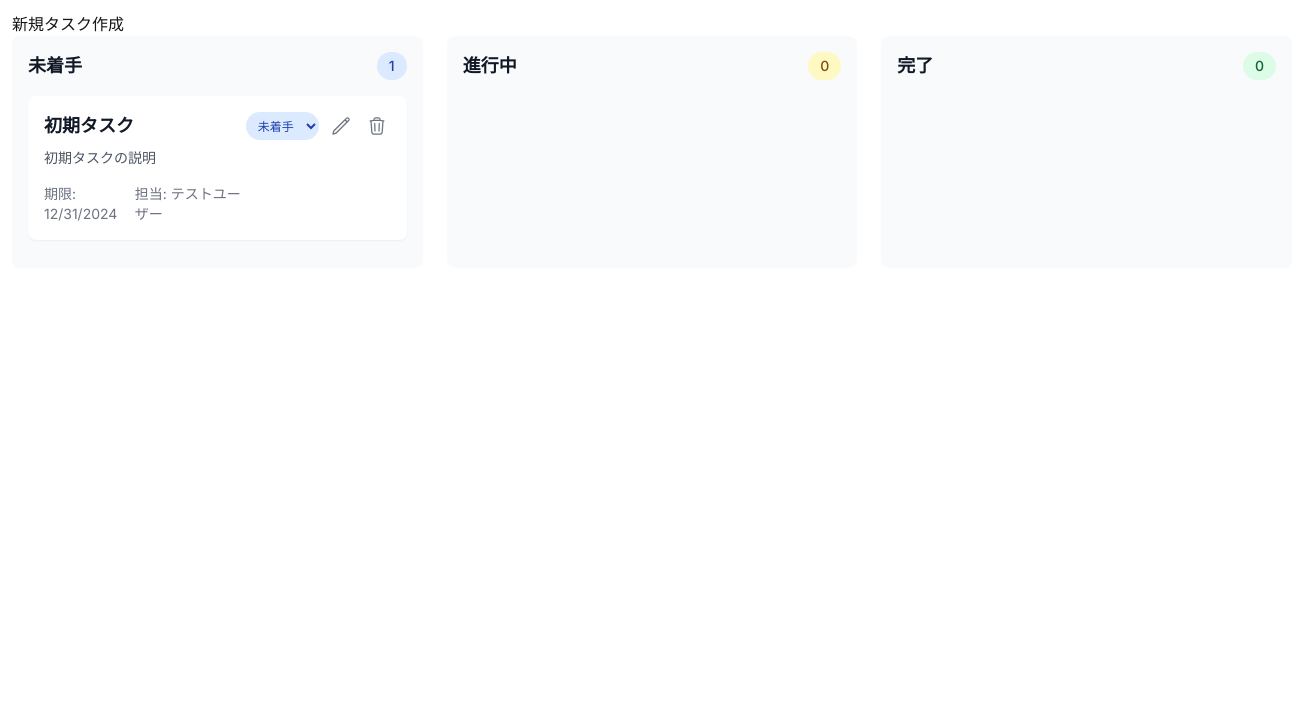
Test: TaskBoard Integration Tests › タスク編集フローが動作する
The width and height of the screenshot is (1292, 727).
// 初期タスクの編集ボタンをクリック
Click the button with test id "edit-button-1": (341, 126) [327, 112, 355, 140]
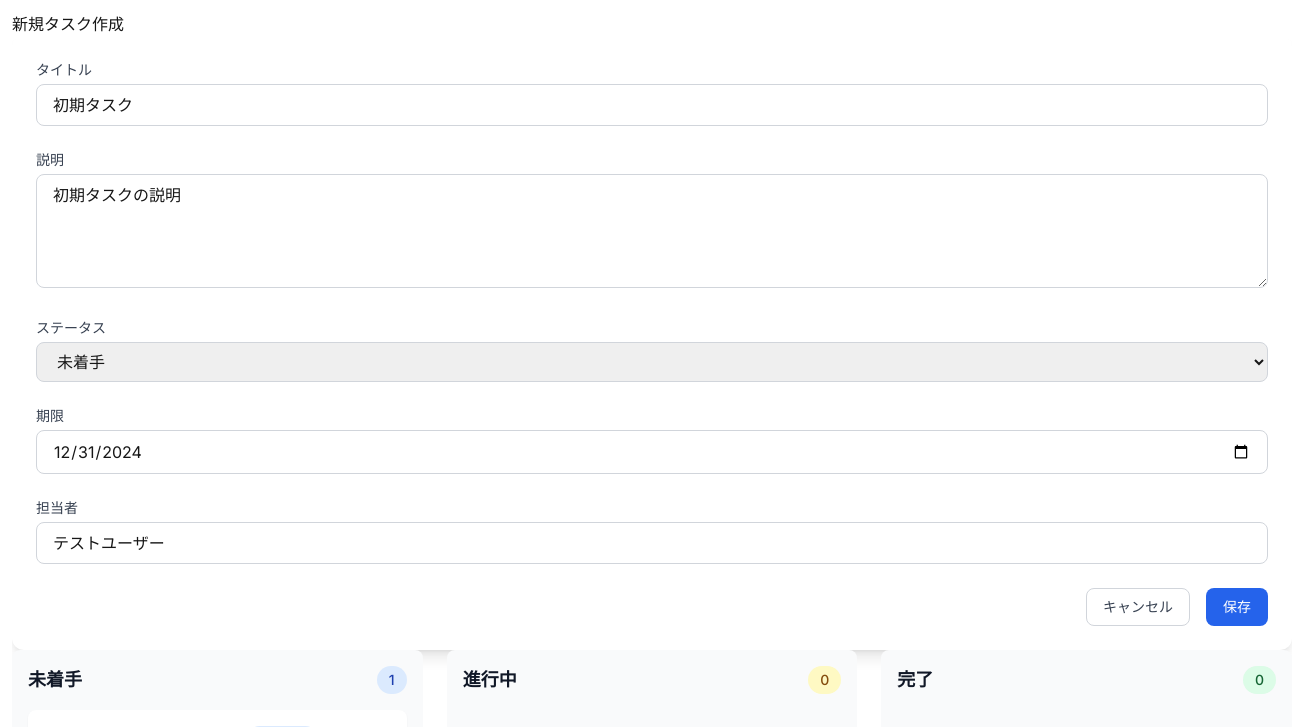
Check: the form with test id "task-form" is shown
Check: the field labelled "タイトル" holds "初期タスク"
//  タイトルを変更
Replace the text in the field labelled "タイトル" with "編集されたタスク": (652, 105) [36, 84, 1268, 126]
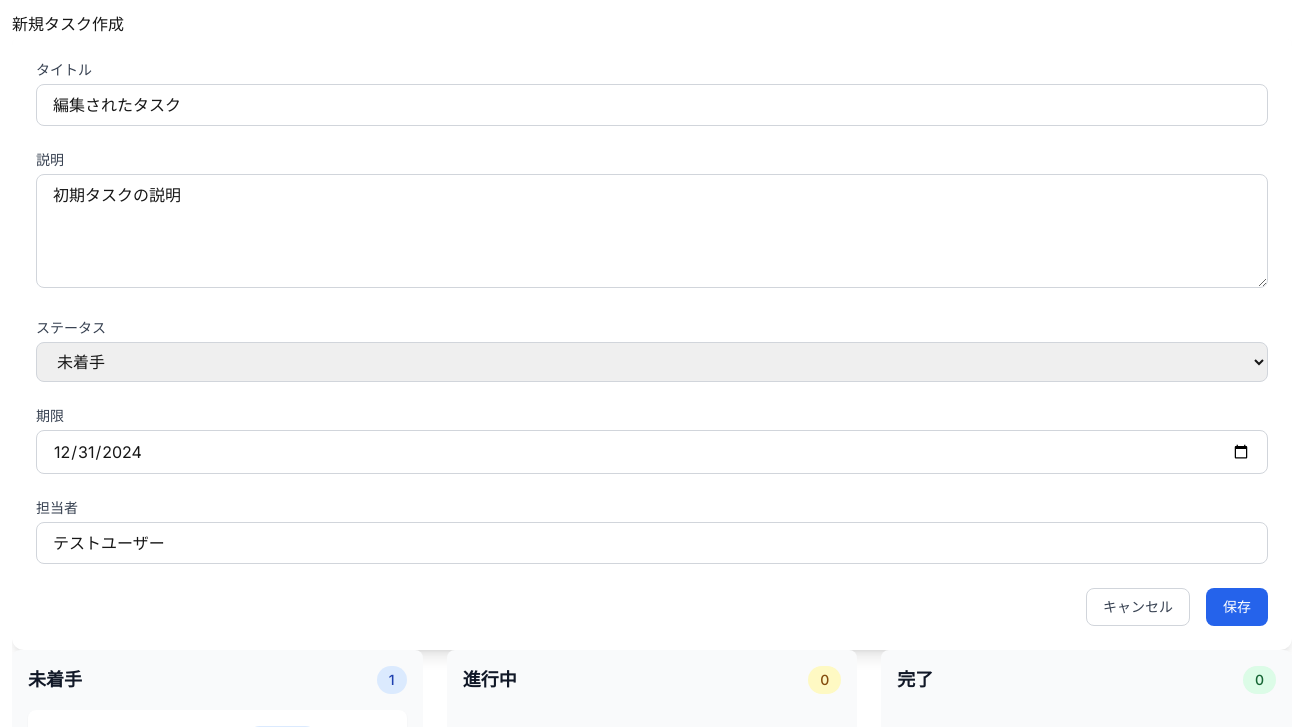
//  フォームを送信
Click the button "保存": (1237, 607) [1206, 588, 1268, 626]
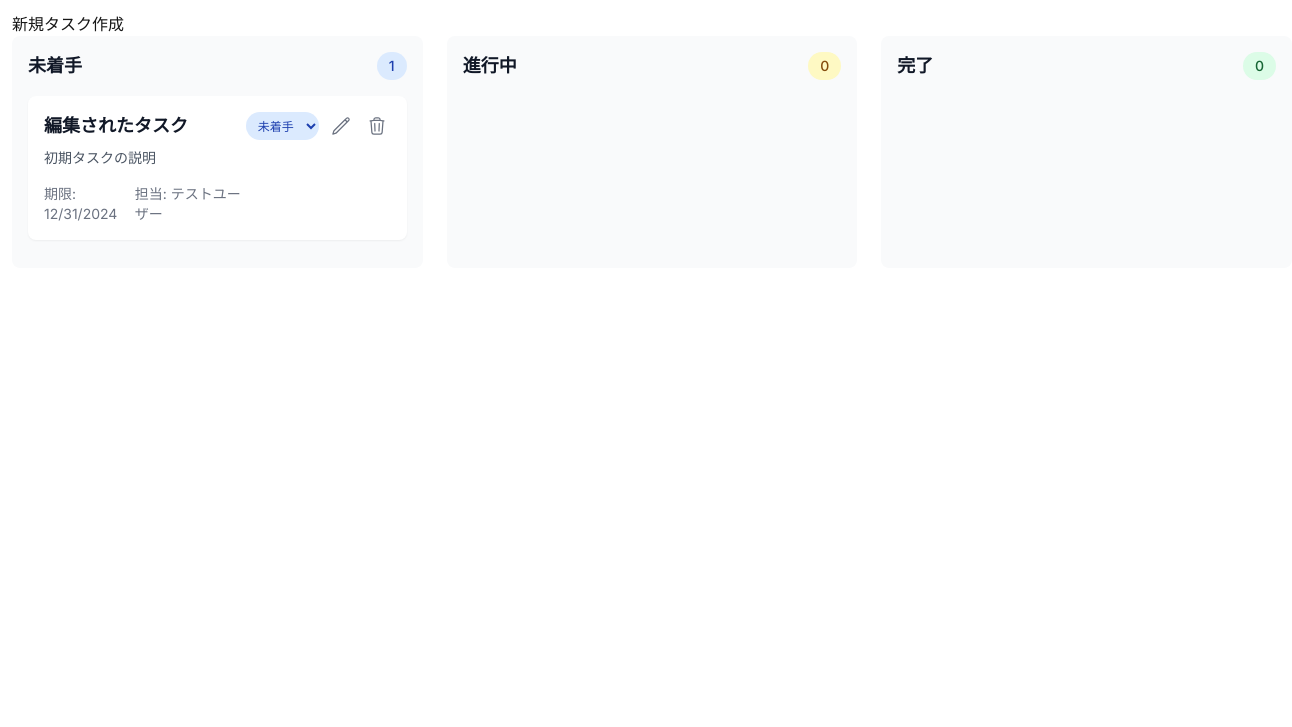
Check: the heading "編集されたタスク" is shown, box [44, 115, 188, 136]
